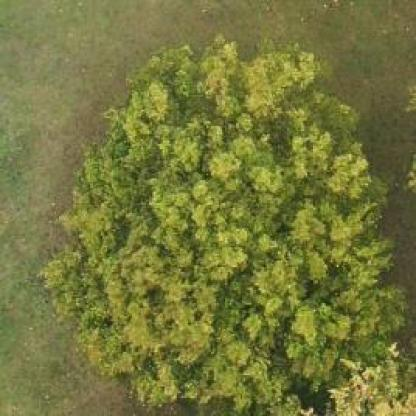Deciduous Tree: (39, 37, 416, 416), (326, 339, 416, 416)
